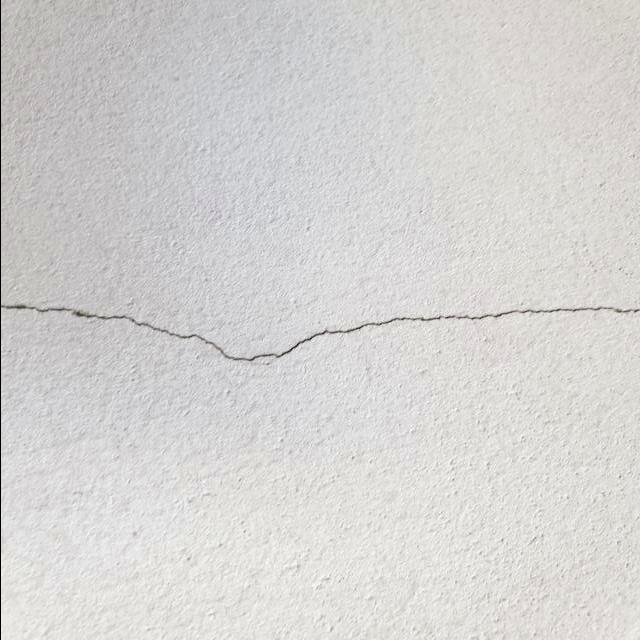SurfaceCrack: (1, 261, 640, 399)
